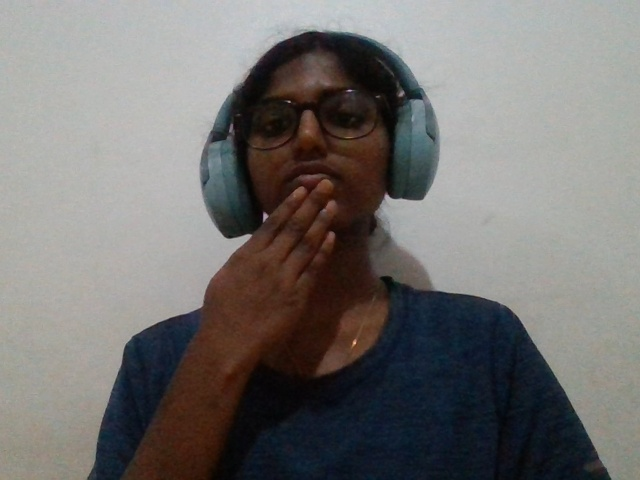Thanks: (161, 157, 389, 433)
